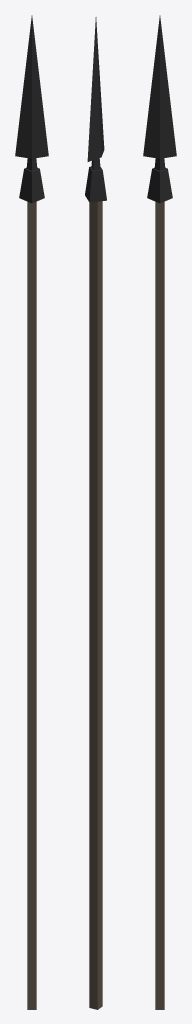
Rendered from Spear_03.fbx.
3 renders of one model, left to right at view 1: azimuth 90°, elevation 25°; view 2: azimuth 150°, elevation 25°; view 3: azimuth 270°, elevation 25°, orthographic.
Parts seen in each view (by area): view 1: pCylinder260; view 2: pCylinder260; view 3: pCylinder260.
Boxes of the visible parts, x1=… form: pCylinder260: x1=15, y1=15, x2=48, y2=1009; pCylinder260: x1=85, y1=17, x2=106, y2=1009; pCylinder260: x1=143, y1=15, x2=176, y2=1009.
Bounding box in the file's own units: 0.0879 × 3.74 × 0.115.
